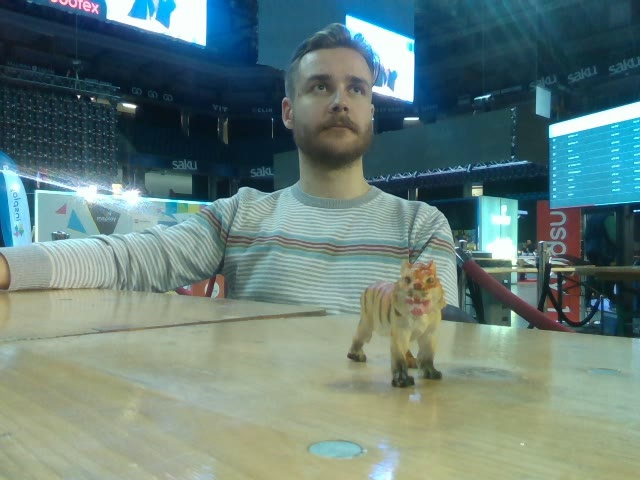toy: (349, 262, 447, 389)
